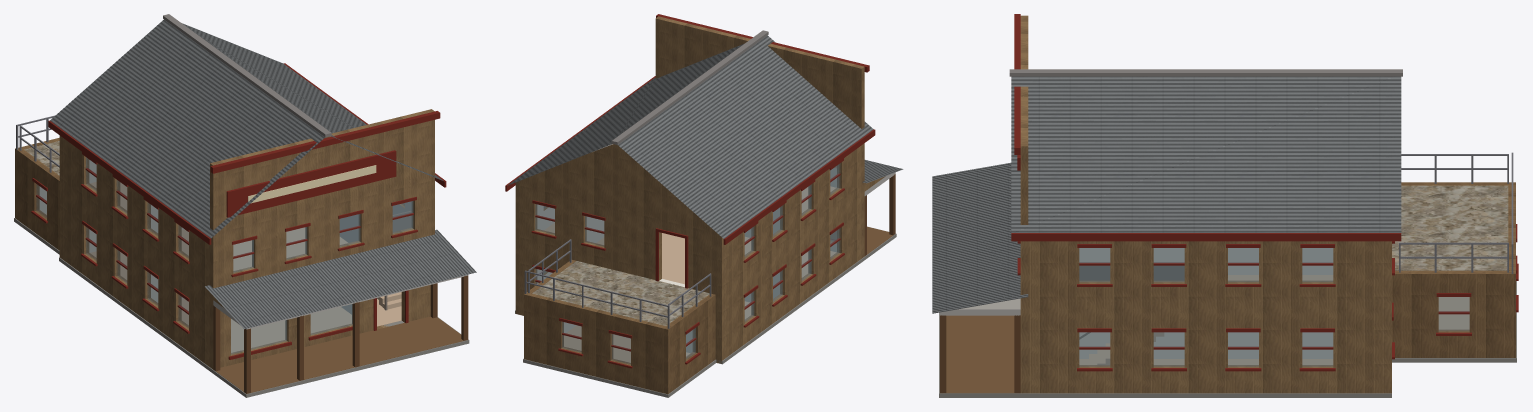
The model's file is cr-feed-store.towns-v1.lod0.glb.
3 renders of one model, left to right at view 1: azimuth 30°, elevation 25°; view 2: azimuth 150°, elevation 25°; view 3: azimuth 270°, elevation 25°, orthographic. The views are drawn at different scales.
Visible parts, largest first — view 1: cr-feed-store; view 2: cr-feed-store; view 3: cr-feed-store.
Part boxes in pixels (x1,y1,x2,y2): cr-feed-store: (14,14,476,397); cr-feed-store: (505,14,903,397); cr-feed-store: (932,14,1518,397).
Bounding box in the file's own units: 10.68 × 9.3 × 18.94.
7 materials, 3 textured.
